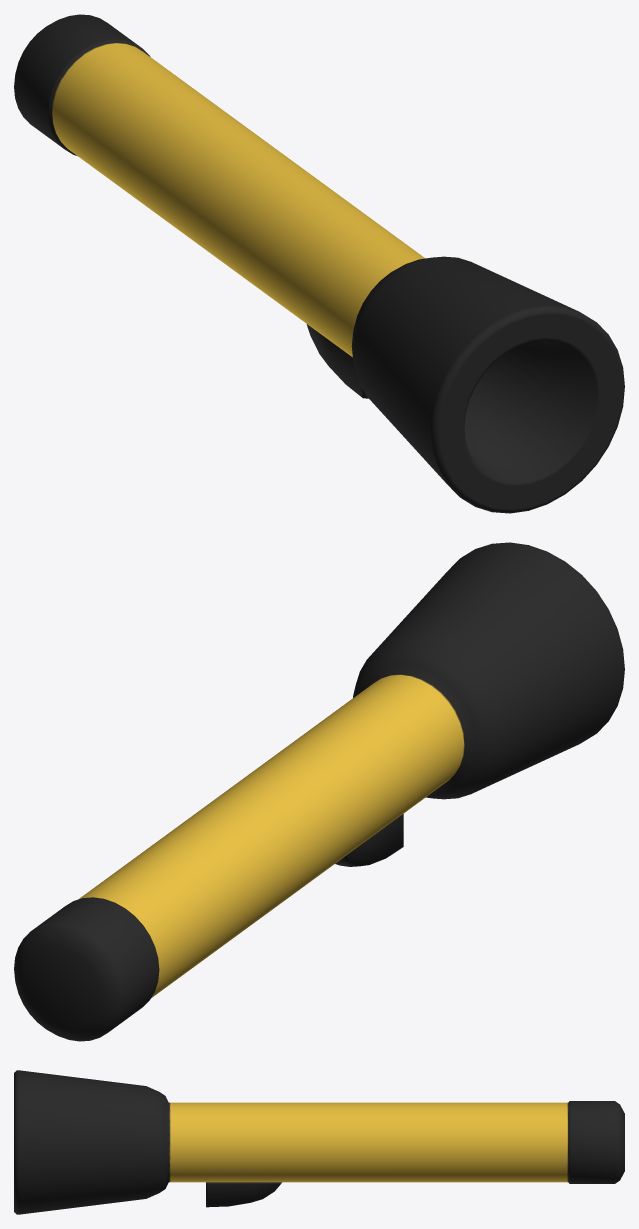
Rendered from flashlight_separate.fbx.
3 renders of one model, top to bottom at view 1: azimuth 30°, elevation 25°; view 2: azimuth 150°, elevation 25°; view 3: azimuth 270°, elevation 25°, orthographic. The views are drawn at different scales.
Parts seen in each view (by area): view 1: flashlight, flashlight.001; view 2: flashlight, flashlight.001; view 3: flashlight, flashlight.001.
Boxes of the visible parts, bbox=[...] form: flashlight: bbox=[14, 14, 624, 513]; flashlight.001: bbox=[306, 324, 368, 398]; flashlight: bbox=[14, 542, 624, 1041]; flashlight.001: bbox=[335, 814, 403, 866]; flashlight: bbox=[14, 1070, 624, 1214]; flashlight.001: bbox=[206, 1182, 281, 1207].
Size of the model in its own units: 361 by 361 by 1526.
Materials: 1 (1 with a texture image).
